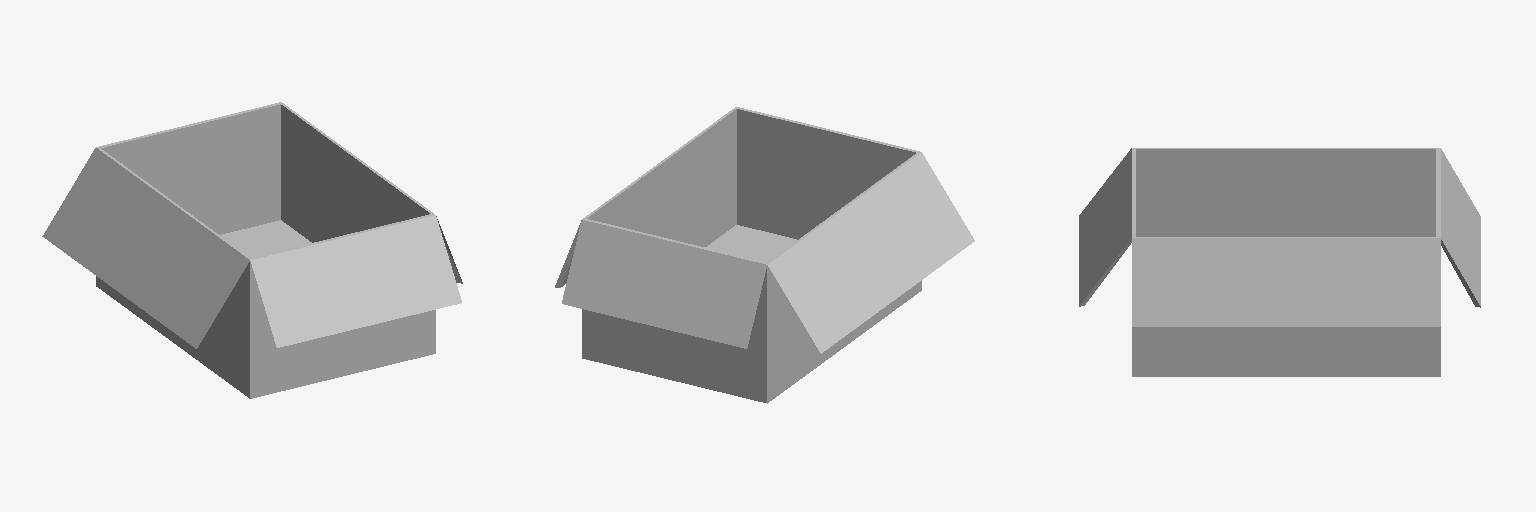
File: CardboardBox2.obj
The picture shows the model from 3 angles: view 1: azimuth 30°, elevation 25°; view 2: azimuth 150°, elevation 25°; view 3: azimuth 270°, elevation 25°; orthographic projection.
Parts seen in each view (by area): view 1: Cube.001; view 2: Cube.001; view 3: Cube.001.
Boxes of the visible parts, x1,y1,x2,y2 form: Cube.001: [42, 102, 462, 398]; Cube.001: [555, 107, 974, 403]; Cube.001: [1079, 148, 1480, 376].
Bounding box in the file's own units: 0.9766 × 0.486 × 1.28.